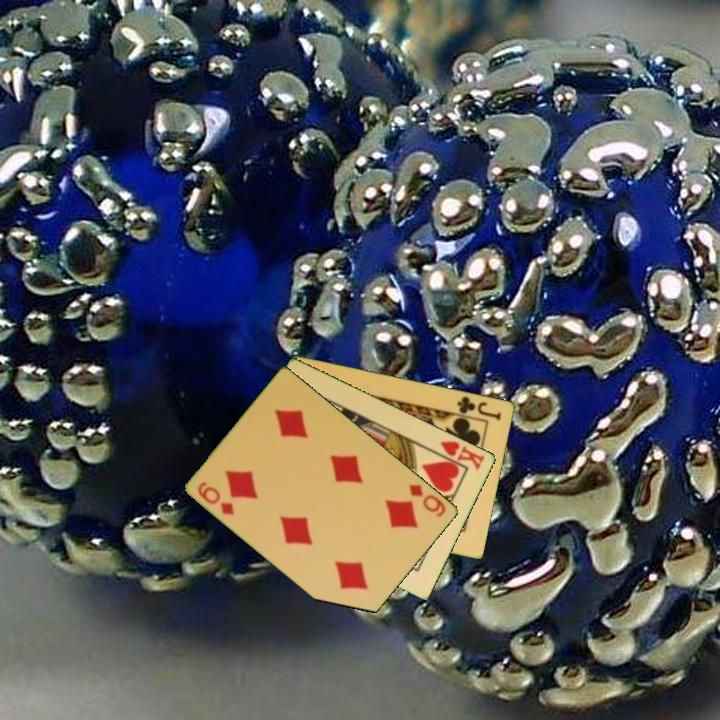6d: (194, 478, 238, 518), (406, 480, 449, 520)
Jc: (450, 393, 505, 423)
Kh: (431, 437, 488, 473)
